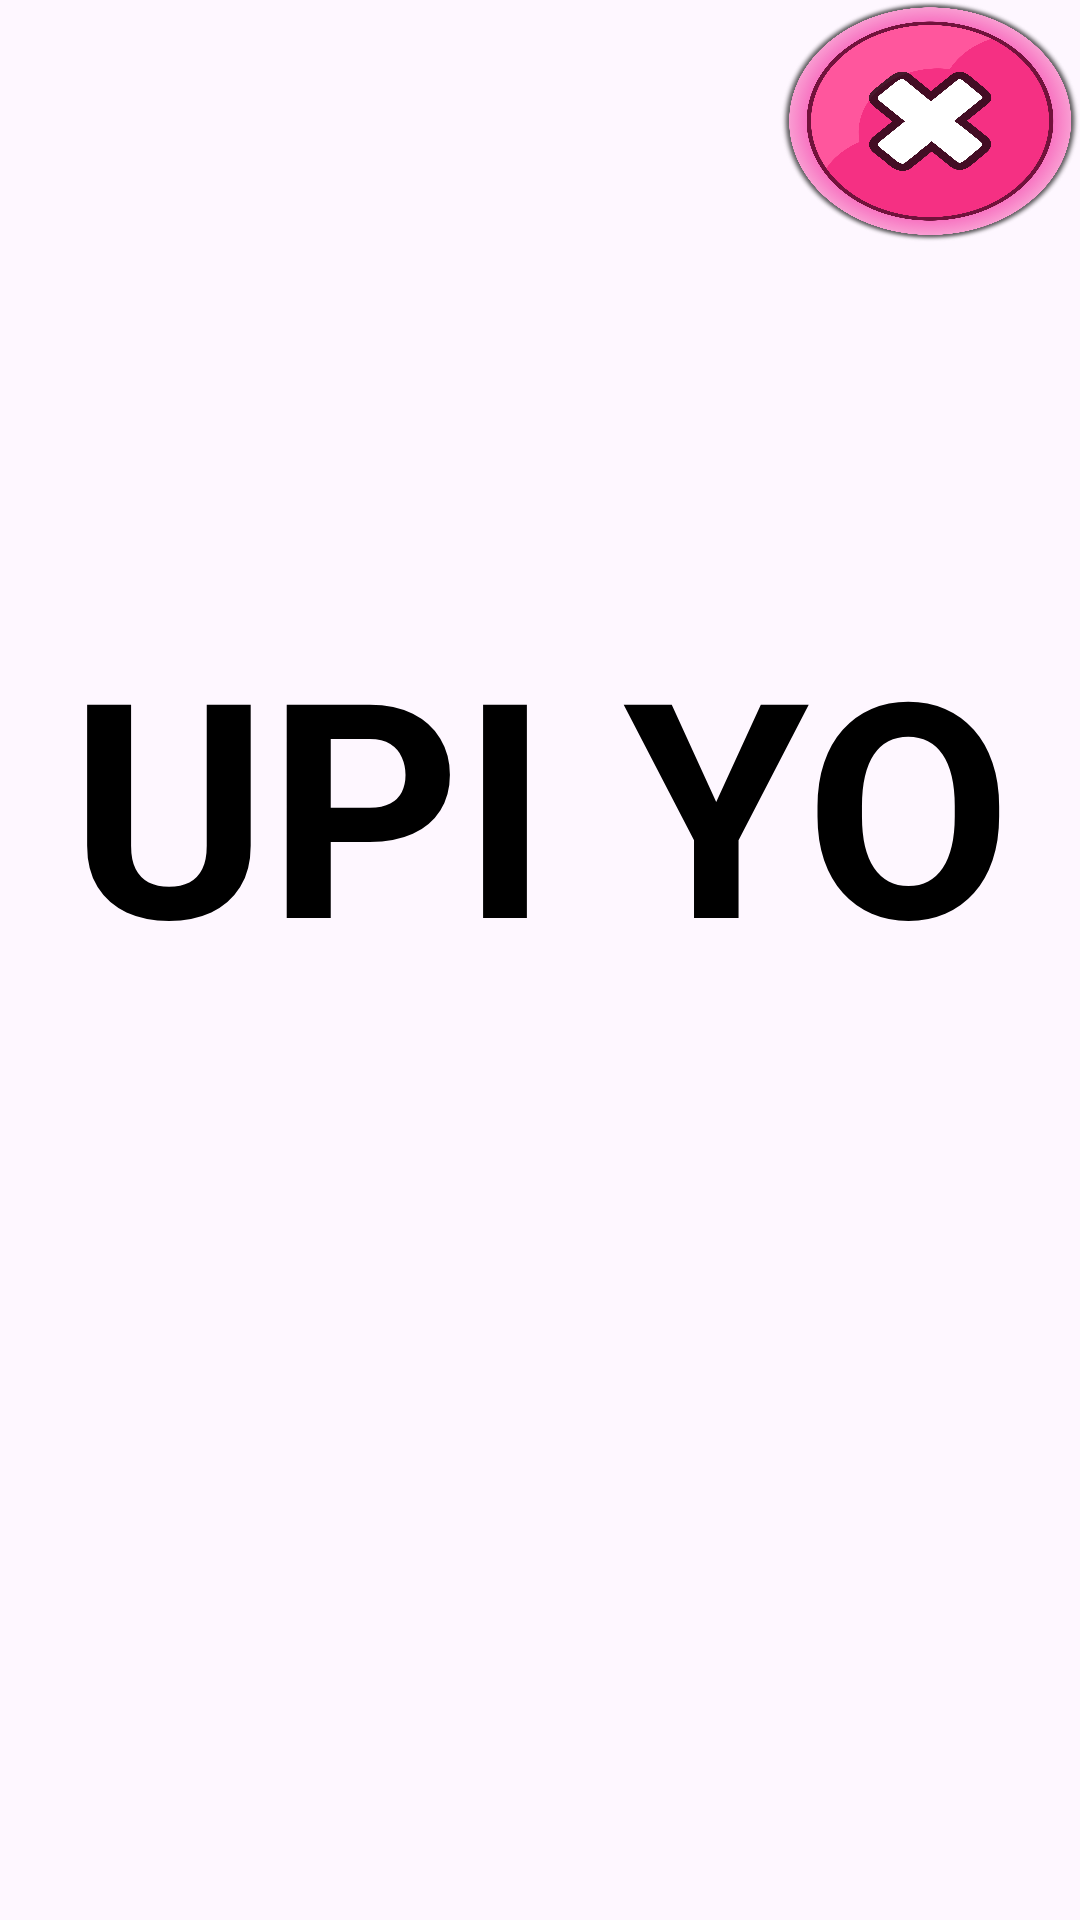

Icon bounding boxes for this 1080 × 1920 phone screenshot, format (x1, y1, x2, y2):
close: (783, 3, 1077, 240)
